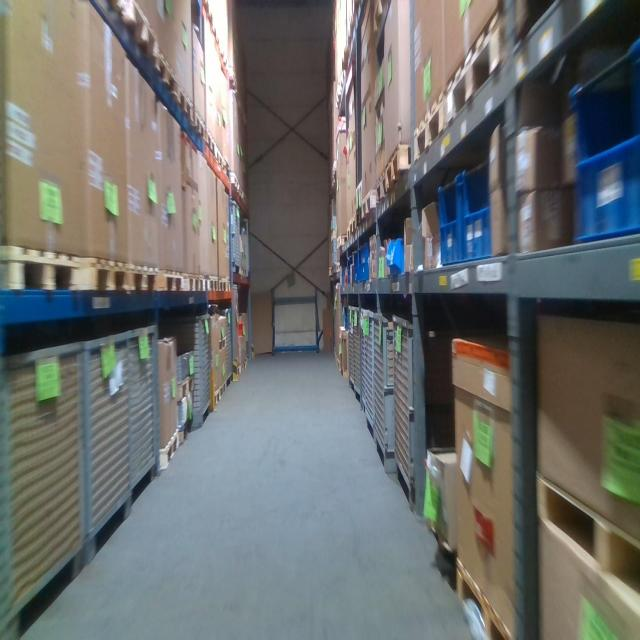pallet: (532, 466, 639, 597), (450, 2, 502, 133), (455, 555, 508, 636), (2, 247, 80, 294), (110, 2, 158, 74), (414, 80, 450, 167), (80, 256, 129, 293), (151, 44, 178, 100), (386, 145, 413, 191), (159, 427, 179, 471), (129, 264, 157, 292), (157, 267, 184, 294), (177, 83, 194, 125), (176, 370, 196, 402), (183, 272, 200, 293), (199, 275, 211, 293), (218, 336, 227, 352), (220, 380, 226, 402), (213, 387, 219, 408)
small_load_carrier: (566, 38, 638, 247), (460, 160, 495, 262), (437, 166, 463, 267), (359, 240, 373, 283), (353, 246, 361, 284), (346, 256, 354, 284), (342, 306, 348, 332)
stillage: (1, 329, 87, 639), (80, 322, 134, 575), (392, 309, 438, 511), (373, 307, 414, 480), (162, 306, 212, 431), (130, 316, 161, 508), (365, 309, 381, 448), (229, 196, 243, 273), (220, 302, 231, 391), (362, 306, 370, 419), (354, 304, 363, 404), (347, 302, 356, 391), (240, 213, 251, 277)
